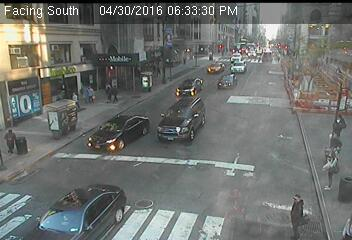neg: (333, 85, 346, 102), (279, 40, 288, 53)
pos: (279, 189, 316, 239), (317, 146, 349, 189), (333, 110, 350, 133), (338, 213, 351, 237), (101, 80, 116, 100), (110, 85, 123, 102), (85, 84, 98, 101), (77, 85, 89, 100), (329, 130, 340, 144), (69, 89, 79, 102)
